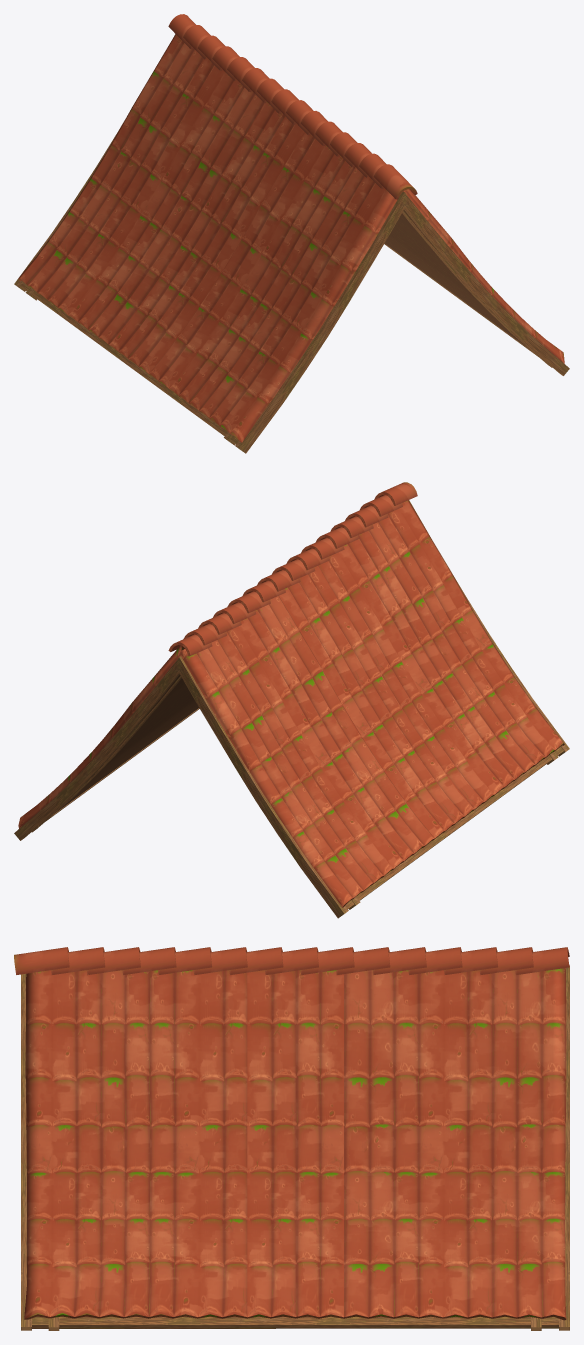
The model's file is Roof_RoundTiles_8x10.gltf.
The picture shows the model from 3 angles, top to bottom: view 1: azimuth 30°, elevation 25°; view 2: azimuth 150°, elevation 25°; view 3: azimuth 270°, elevation 25°; orthographic projection. The views are drawn at different scales.
Visible parts, largest first — view 1: Roof_RoundTiles_8x10; view 2: Roof_RoundTiles_8x10; view 3: Roof_RoundTiles_8x10.
Boxes of the visible parts, <box> form: Roof_RoundTiles_8x10: <box>14,14,569,453</box>; Roof_RoundTiles_8x10: <box>14,482,569,918</box>; Roof_RoundTiles_8x10: <box>14,947,569,1330</box>.
Bounding box in the file's own units: 9.95 × 6.78 × 11.86.
Materials: 2 (2 with a texture image).
